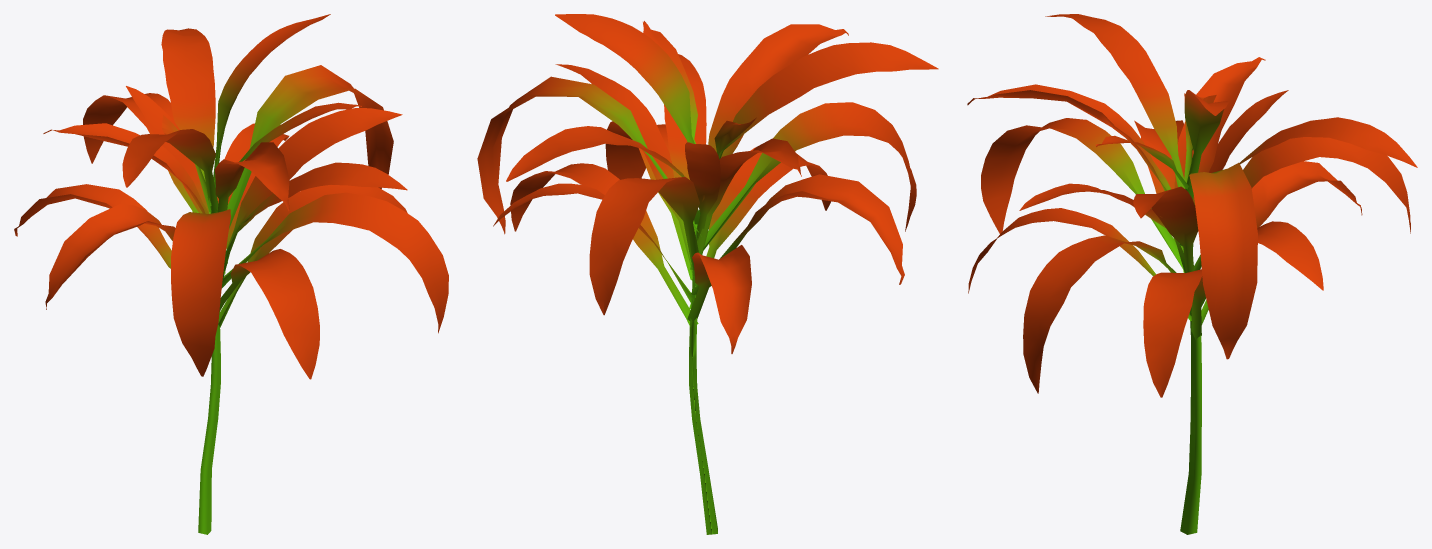
The model's file is SM_MedFoliage-Tall_01.fbx.
3 renders of one model, left to right at view 1: azimuth 30°, elevation 25°; view 2: azimuth 150°, elevation 25°; view 3: azimuth 270°, elevation 25°, orthographic. The views are drawn at different scales.
Parts seen in each view (by area): view 1: SM_MedFoliage-Tall_01; view 2: SM_MedFoliage-Tall_01; view 3: SM_MedFoliage-Tall_01.
Boxes of the visible parts, left/top/right/bottom form: SM_MedFoliage-Tall_01: left=14, top=14, right=448, bottom=534; SM_MedFoliage-Tall_01: left=477, top=14, right=938, bottom=534; SM_MedFoliage-Tall_01: left=967, top=14, right=1417, bottom=534.
Bounding box in the file's own units: 86.43 × 105 × 87.69.
